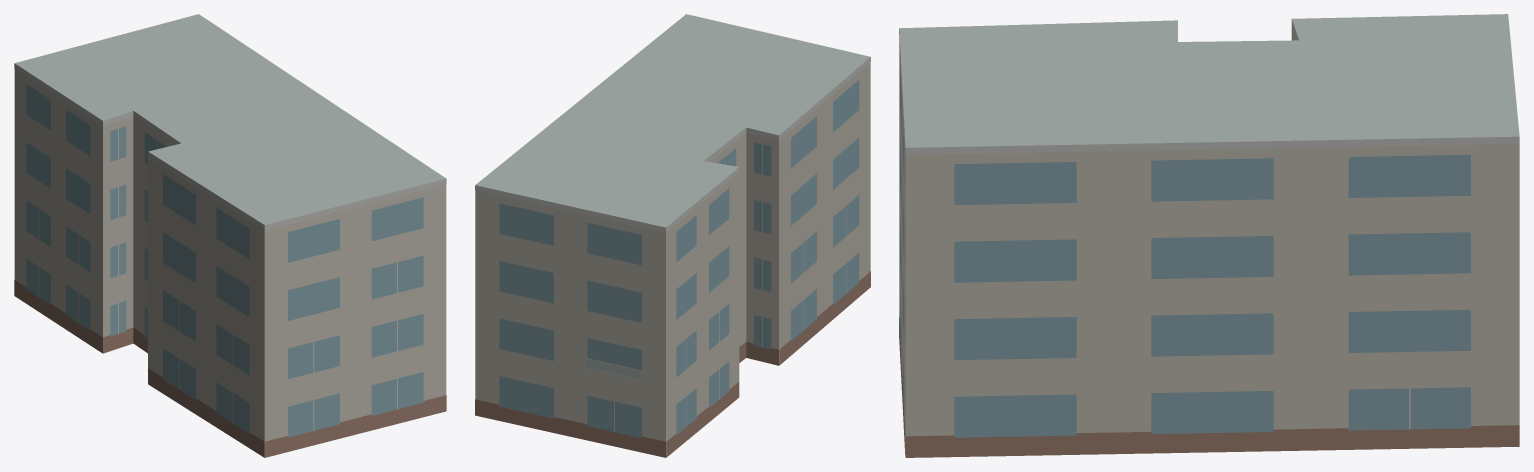
File: survey-upis-32673290.glb
3 renders of one model, left to right at view 1: azimuth 30°, elevation 25°; view 2: azimuth 150°, elevation 25°; view 3: azimuth 270°, elevation 25°, orthographic. The views are drawn at different scales.
Parts seen in each view (by area): view 1: survey-upis-32673290.tmp; view 2: survey-upis-32673290.tmp; view 3: survey-upis-32673290.tmp.
Part boxes in pixels (left/top/right/bottom): survey-upis-32673290.tmp: left=14, top=14, right=446, bottom=457; survey-upis-32673290.tmp: left=475, top=14, right=870, bottom=457; survey-upis-32673290.tmp: left=899, top=14, right=1519, bottom=457.
Bounding box in the file's own units: 9.88 × 10.67 × 19.36.
